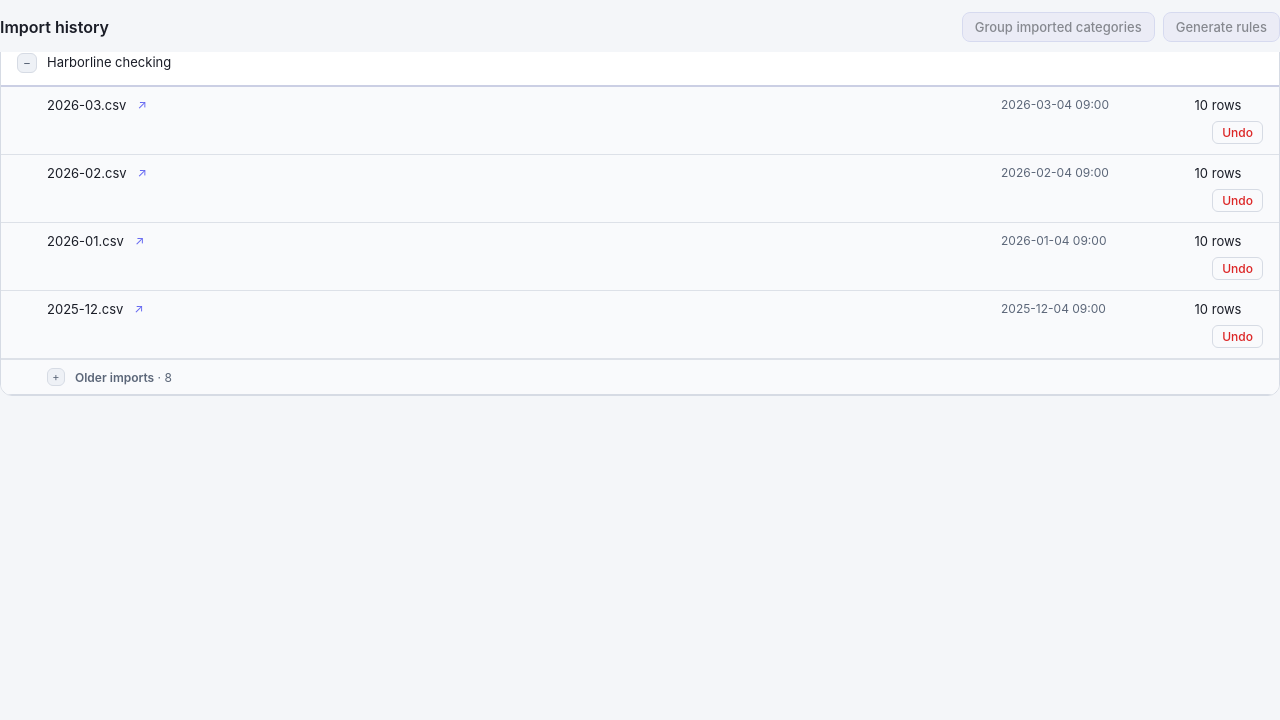
Test: an expanded data source with years of imports › opens the archive to its years, newest expanded and older ones one click away
Click the button "+ Older imports · 8" at {"x": 92, "y": 377}, box top-left (1, 360), bottom-right (1279, 394)
(page scrolled)
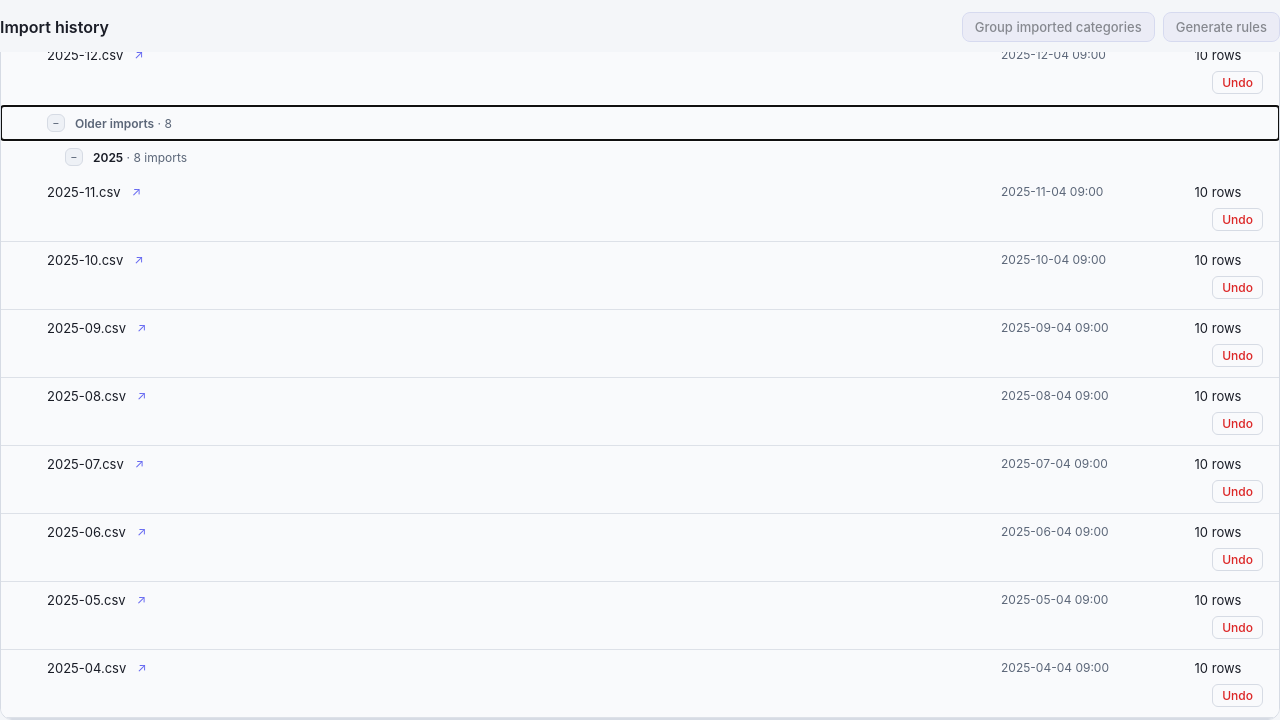
Expected: the button "− 2025 · 8 imports" is shown, top-left (1, 140), bottom-right (1279, 174)
Expected: the text "2025-11.csv" is shown, top-left (47, 184), bottom-right (121, 200)
Expected: the text "2025-04.csv" is shown, top-left (47, 660), bottom-right (126, 676)
